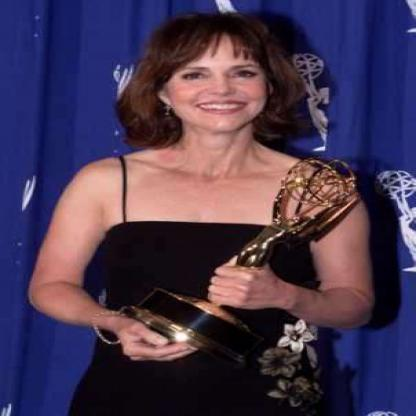face: (163, 21, 273, 134)
